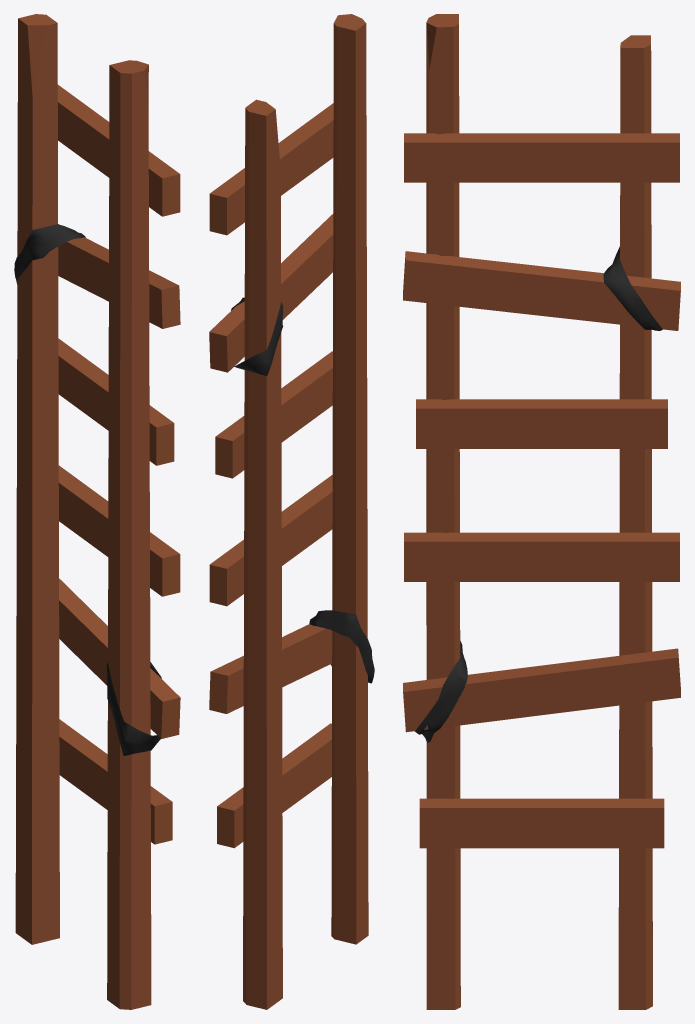
File: wooden ladder.fbx
3 views of the same model, side by side, from view 1: azimuth 30°, elevation 25°; view 2: azimuth 150°, elevation 25°; view 3: azimuth 270°, elevation 25° (orthographic). The views are drawn at different scales.
Visible parts, largest first — view 1: Cube.009; view 2: Cube.009; view 3: Cube.009.
Part boxes in pixels (x1=…): Cube.009: x1=14, y1=14, x2=180, y2=1009; Cube.009: x1=209, y1=14, x2=374, y2=1009; Cube.009: x1=403, y1=14, x2=680, y2=1009.
Bounding box in the file's own units: 15.22 × 257 × 65.78.
